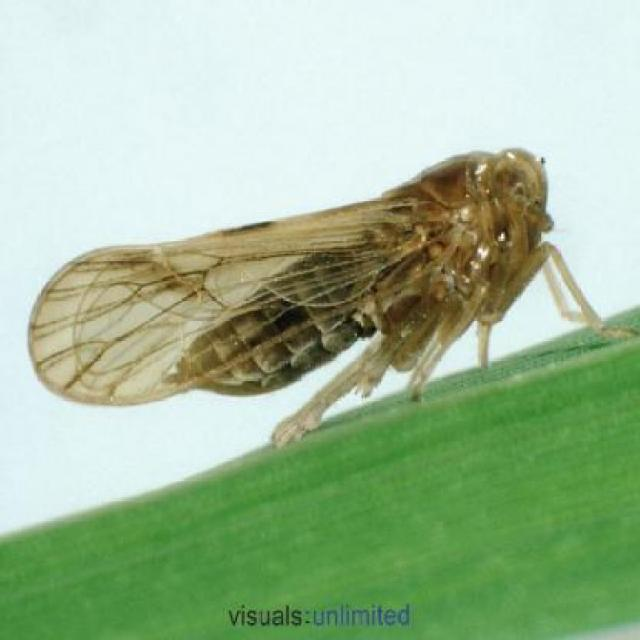brown-planthopper: (25, 143, 592, 434)
